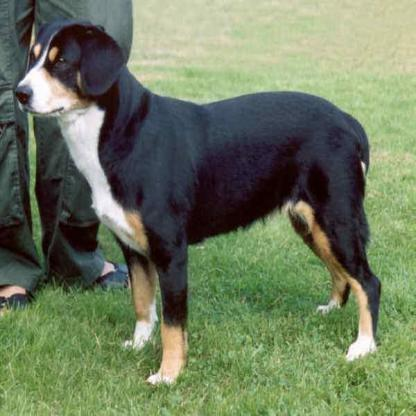EntleBucher: (11, 17, 383, 386)
